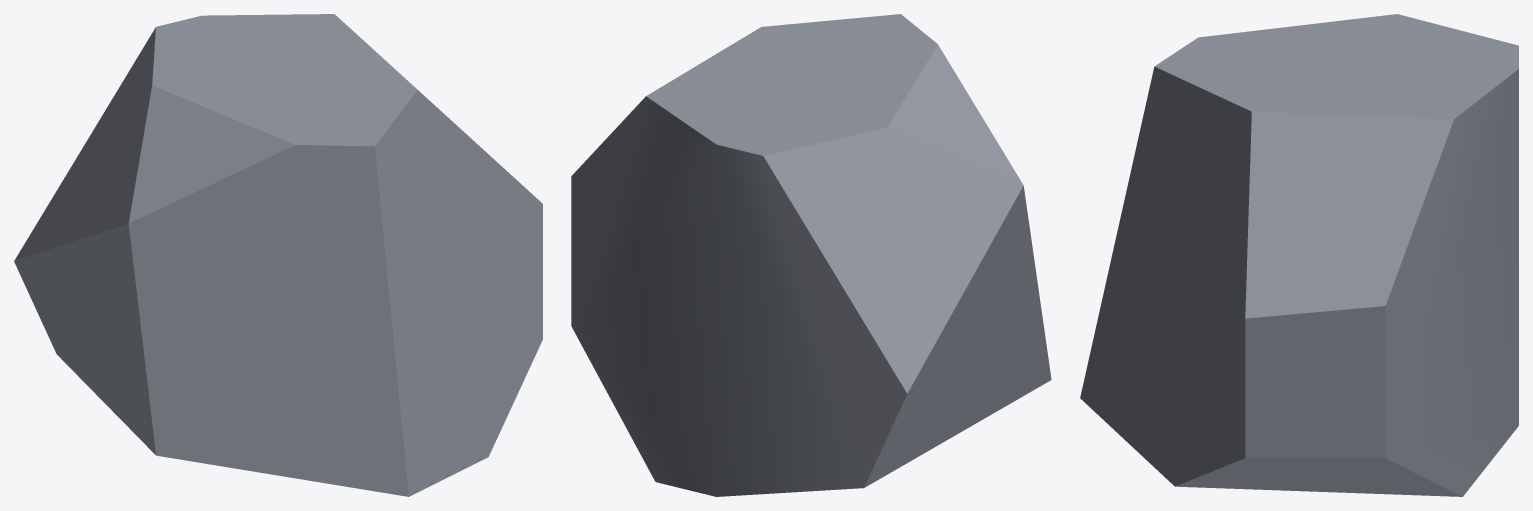
Rendered from Stone B.fbx.
3 views of the same model, side by side, from view 1: azimuth 30°, elevation 25°; view 2: azimuth 150°, elevation 25°; view 3: azimuth 270°, elevation 25° (orthographic). The views are drawn at different scales.
Visible parts, largest first — view 1: Stone B; view 2: Stone B; view 3: Stone B.
Part boxes in pixels (box(x1,y1,x2,y2)): Stone B: box(14, 14, 542, 496); Stone B: box(571, 14, 1051, 496); Stone B: box(1080, 14, 1518, 496).
Size of the model in its own units: 94.1 by 84.91 by 87.84.
